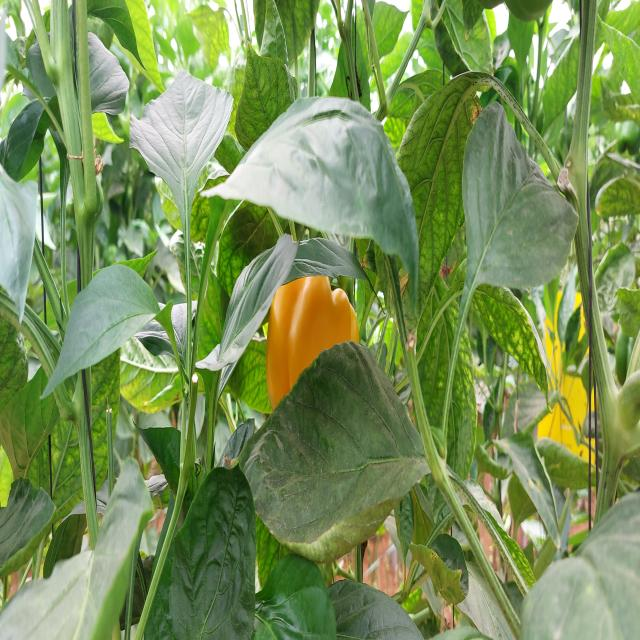Yellow-Ready-to-Harvest: (264, 253, 378, 484)
